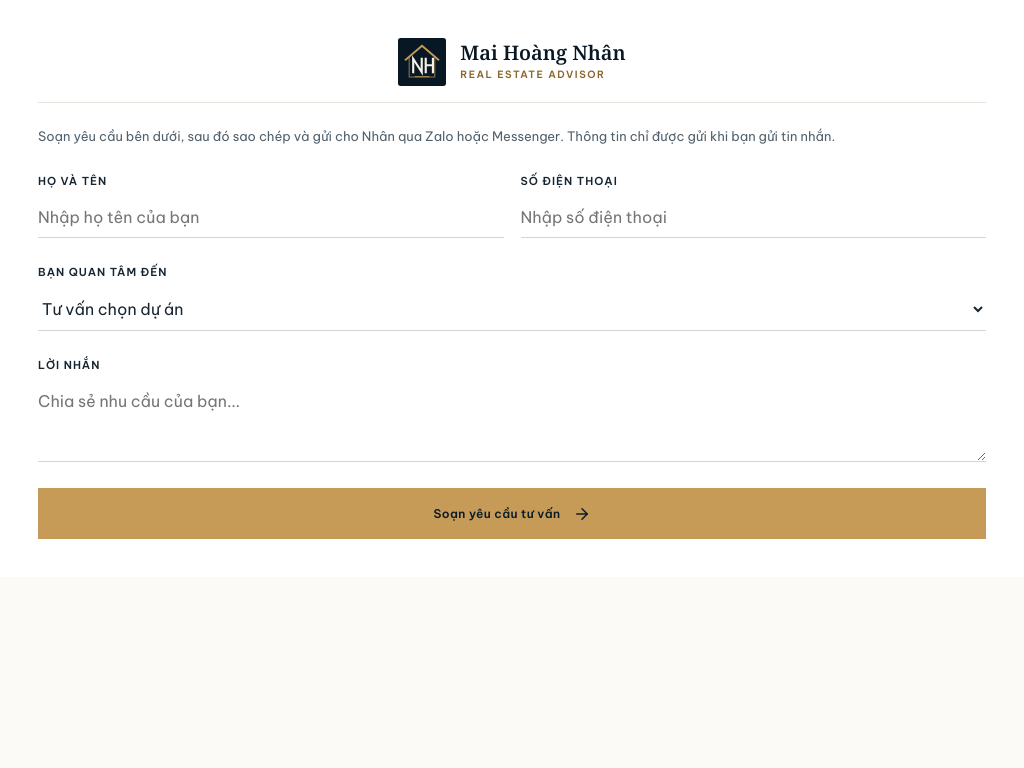
Test case: contact flow › offers manual copy if clipboard access is refused
The width and height of the screenshot is (1024, 768).
In the field labelled "Họ và tên": [271, 218] box [38,197,504,238], type "Nguyễn An"
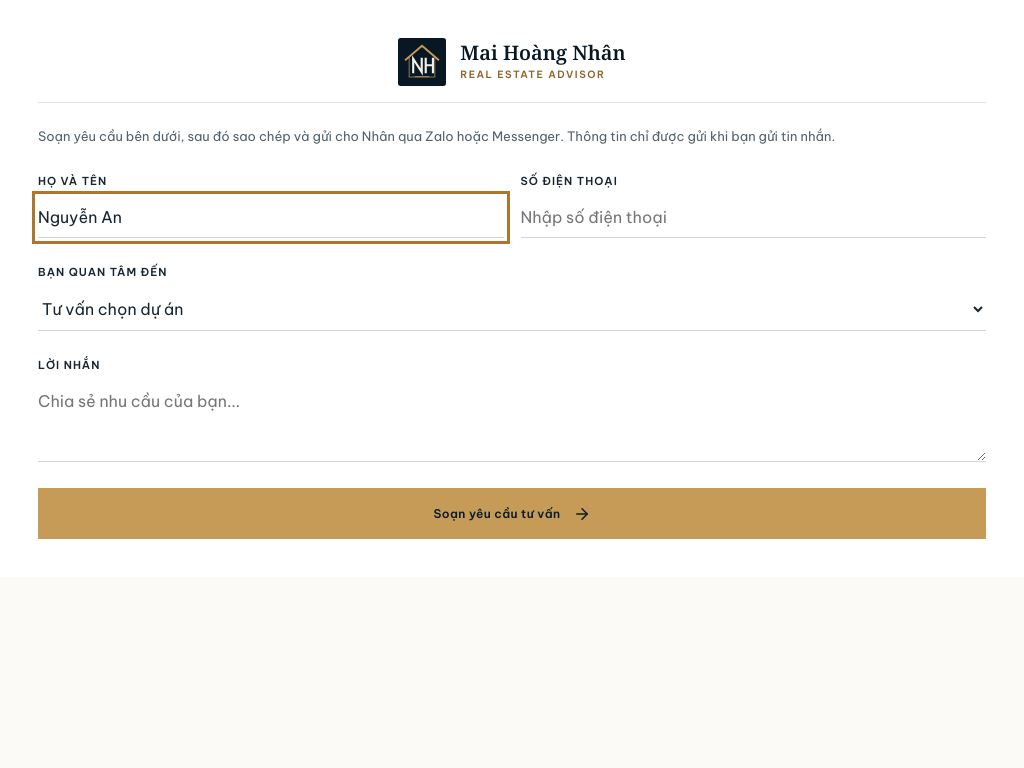
In the field labelled "Số điện thoại": [753, 218] box [520,197,986,238], type "+84 909 467 505"
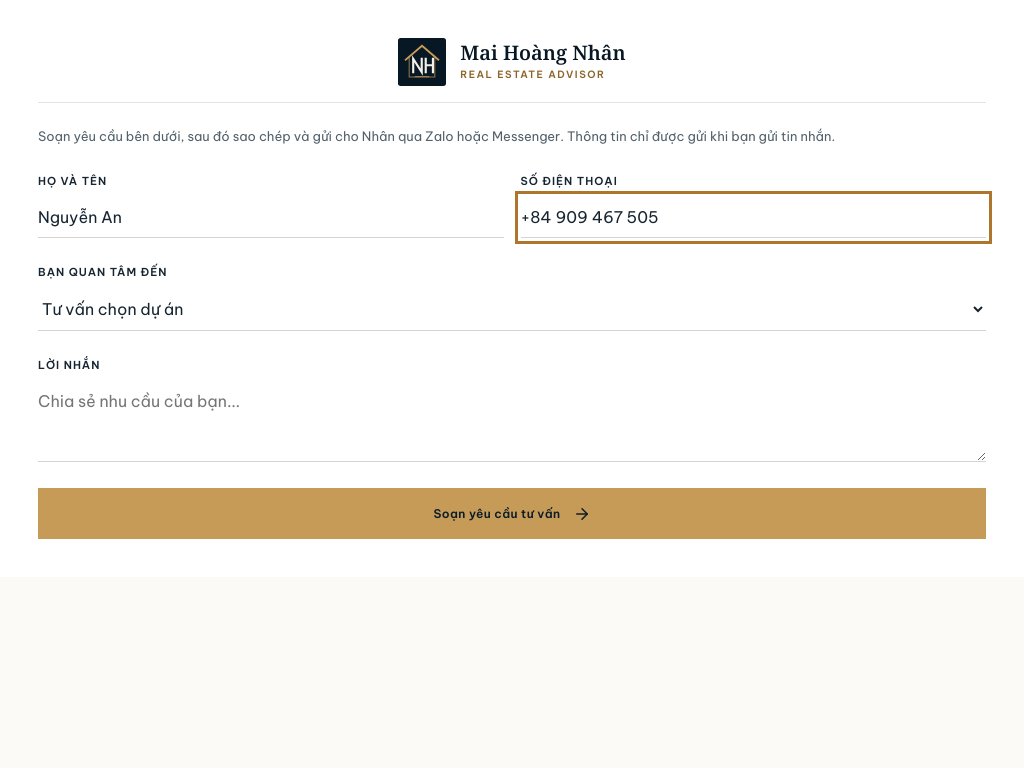
Click the button "Soạn yêu cầu tư vấn": [512, 514] box [38,488,986,539]
(page scrolled)
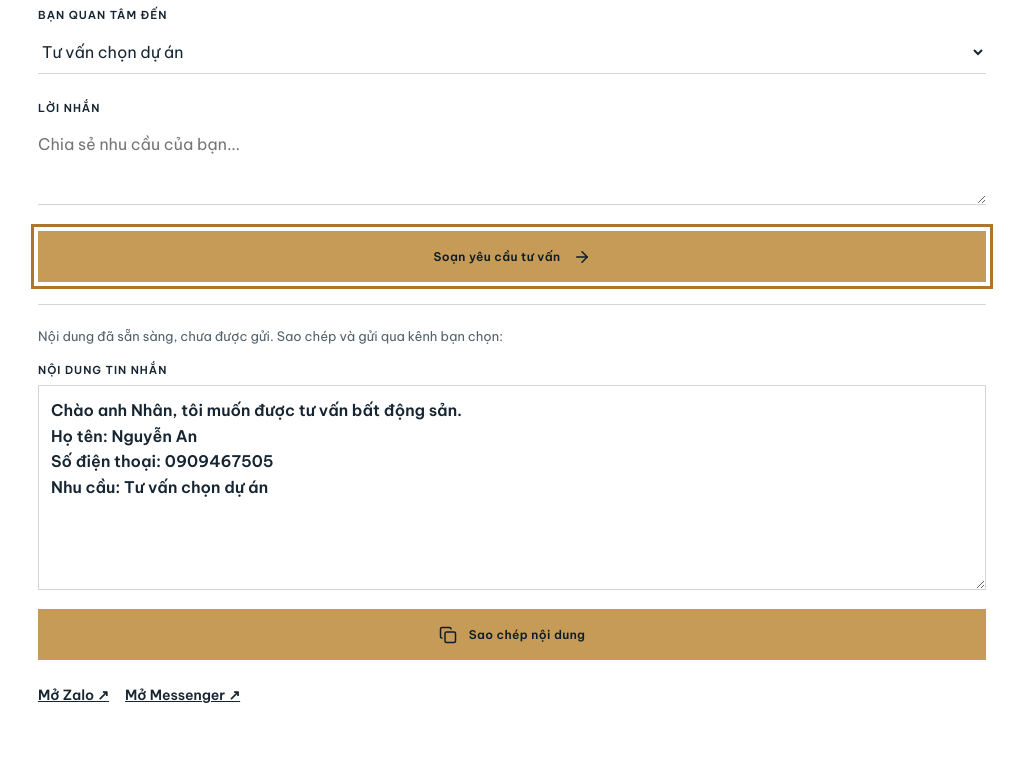
Click the button "Sao chép nội dung": [512, 635] box [38,609,986,660]
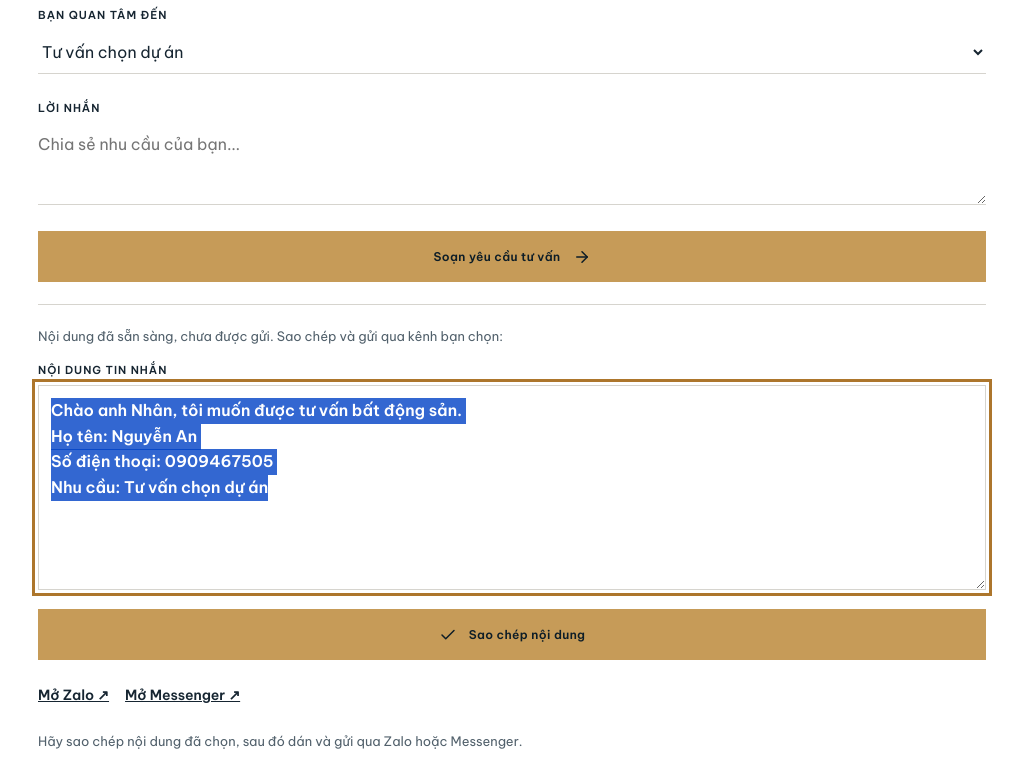
Expected: the text "Hãy sao chép nội dung đã chọn, sau đó dán và gửi qua Zalo hoặc Messenger." is shown, [38,733,522,749]
